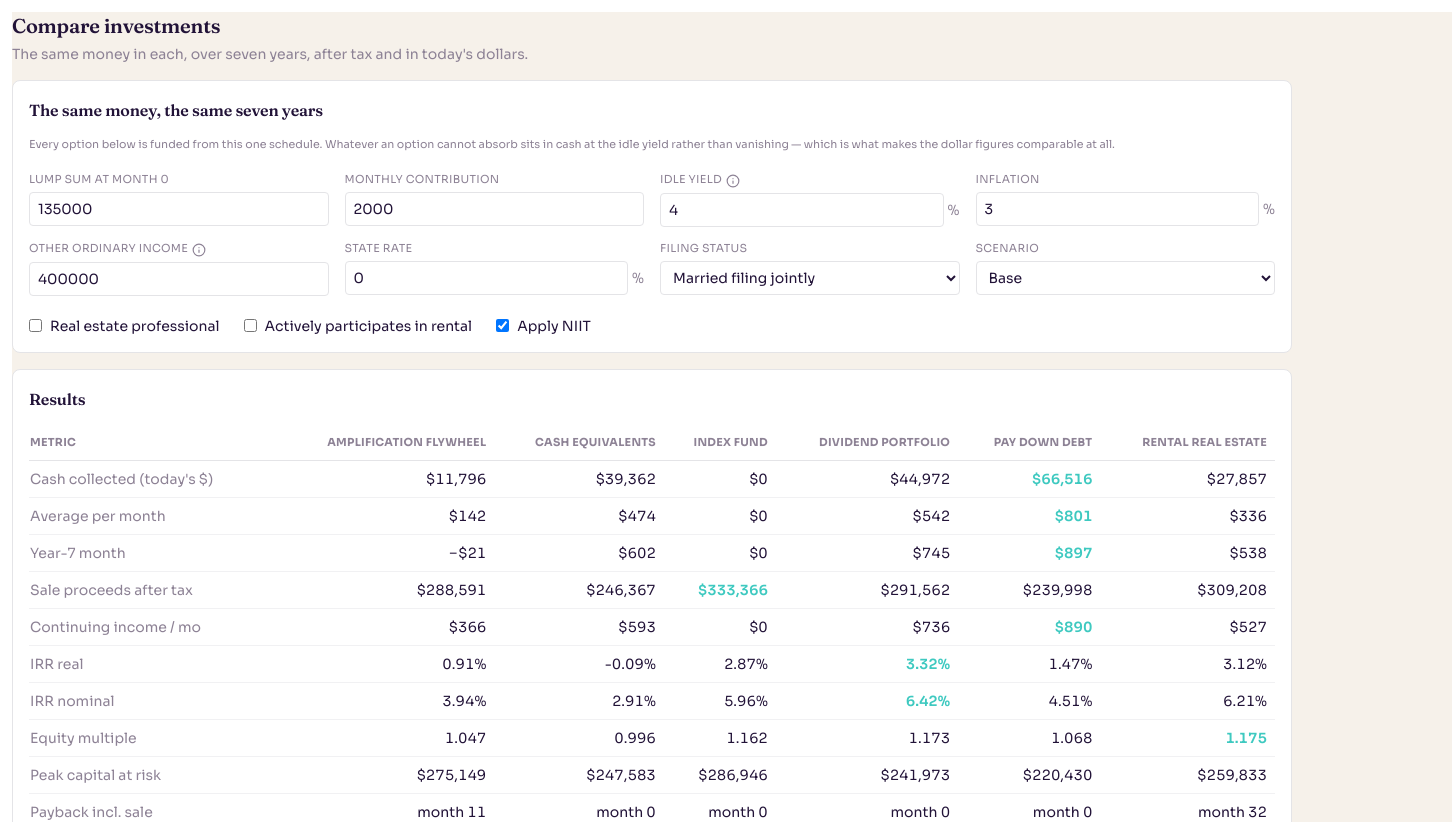
Test: CompareClient › shows a readable message rather than blanking when the engine rejects the inputs
The width and height of the screenshot is (1452, 822).
Replace the text in the number field labelled "Lump sum at month 0" with "0". click: (179, 209)
box: [29,192,328,226]
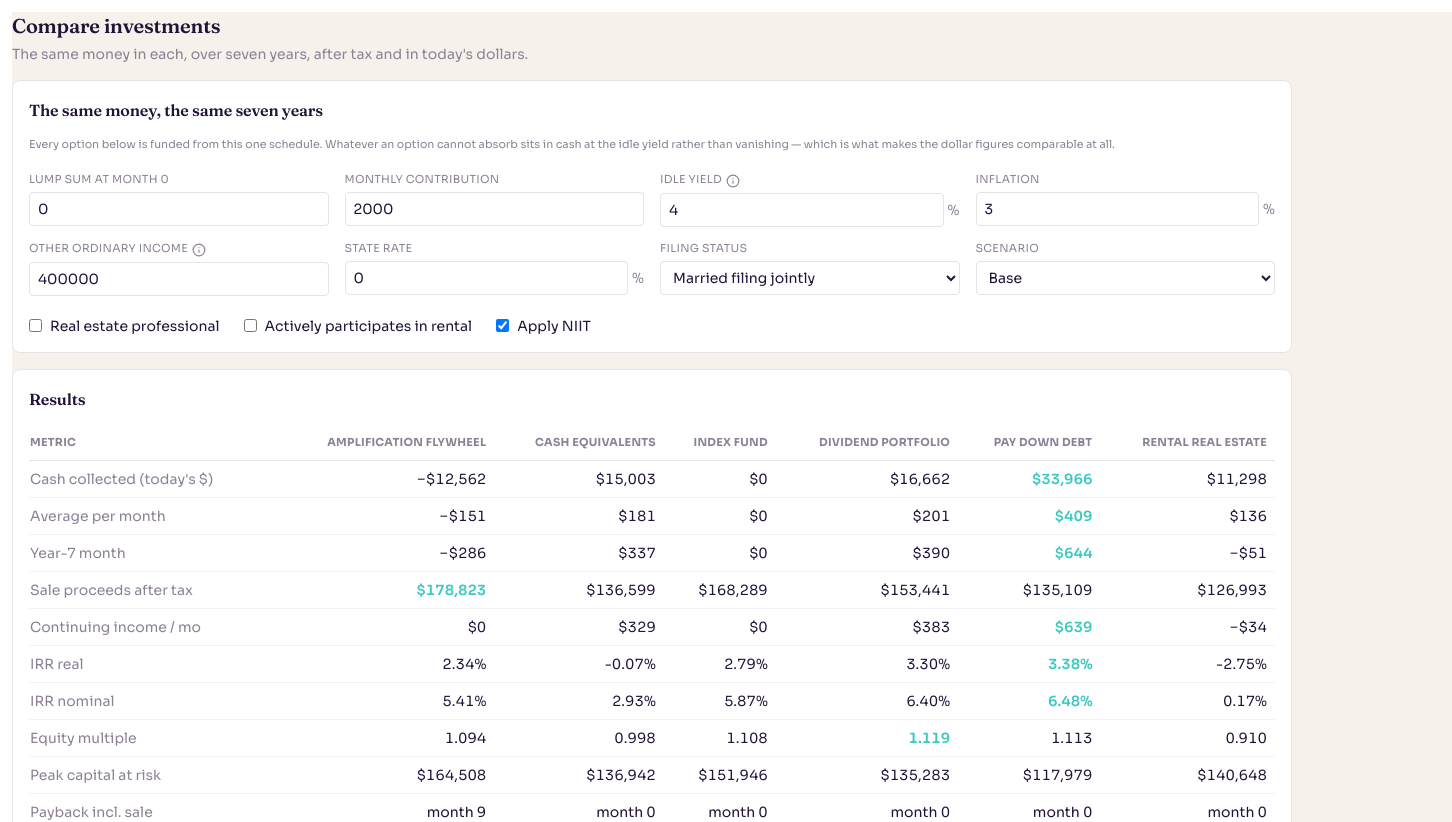
Replace the text in the number field labelled "Monthly contribution" with "0". click: (494, 209)
box: [344,192,644,226]
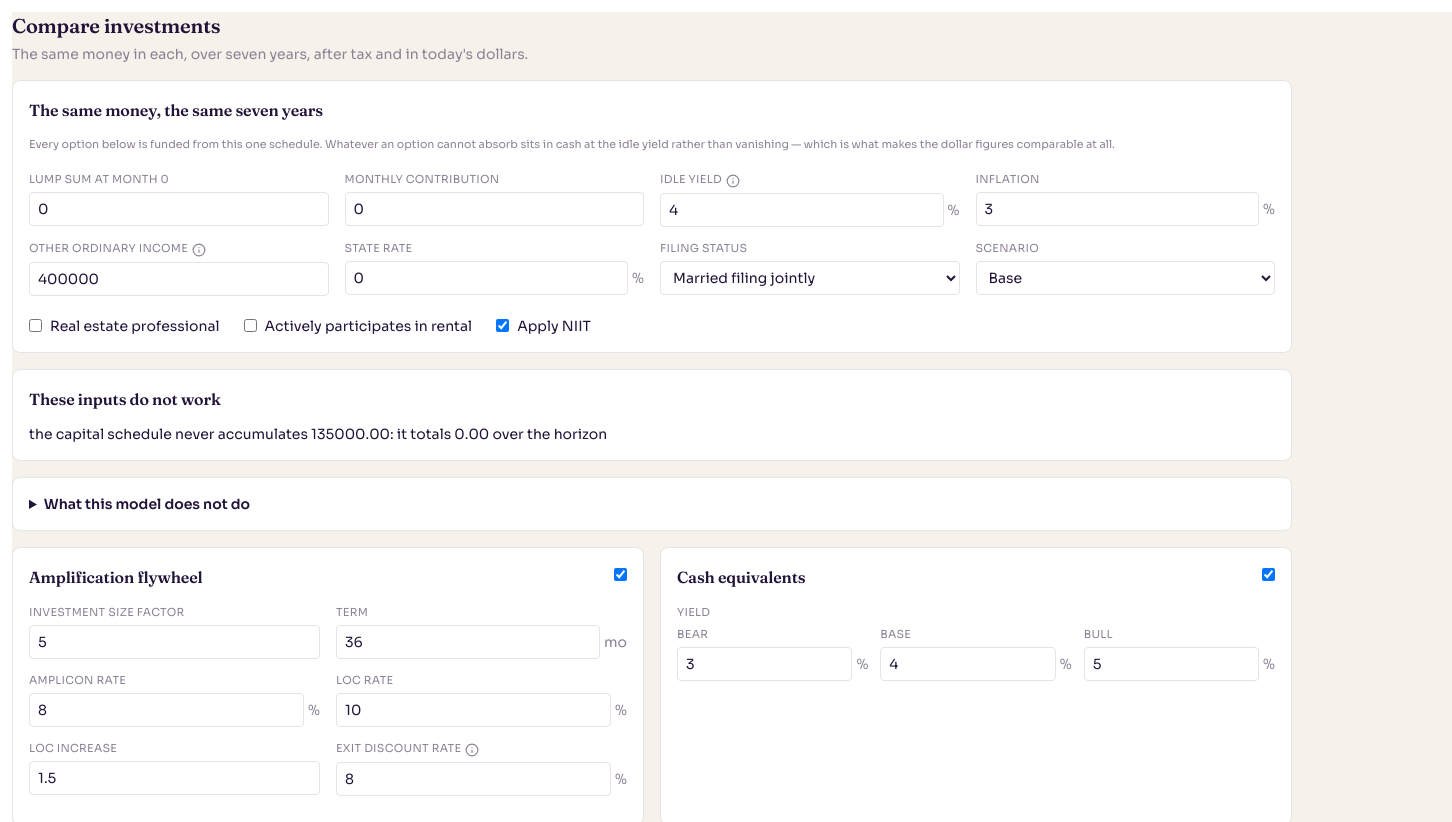
Expected: the text "never accumulates" is shown, [29,425,607,443]
